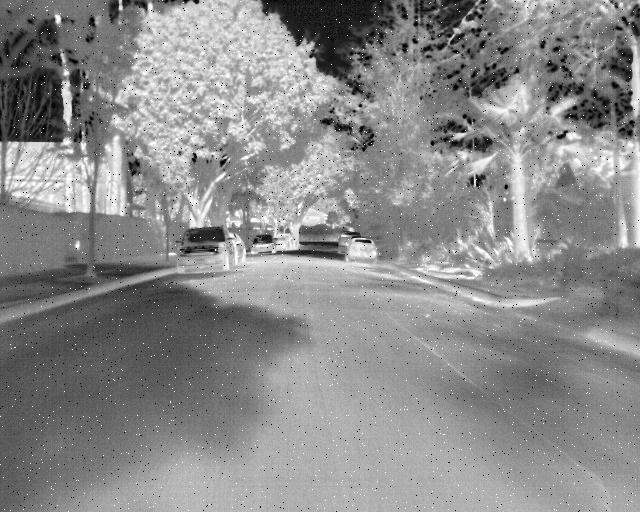car: (178, 220, 250, 277), (245, 217, 298, 260), (339, 234, 385, 277), (338, 227, 363, 252)
